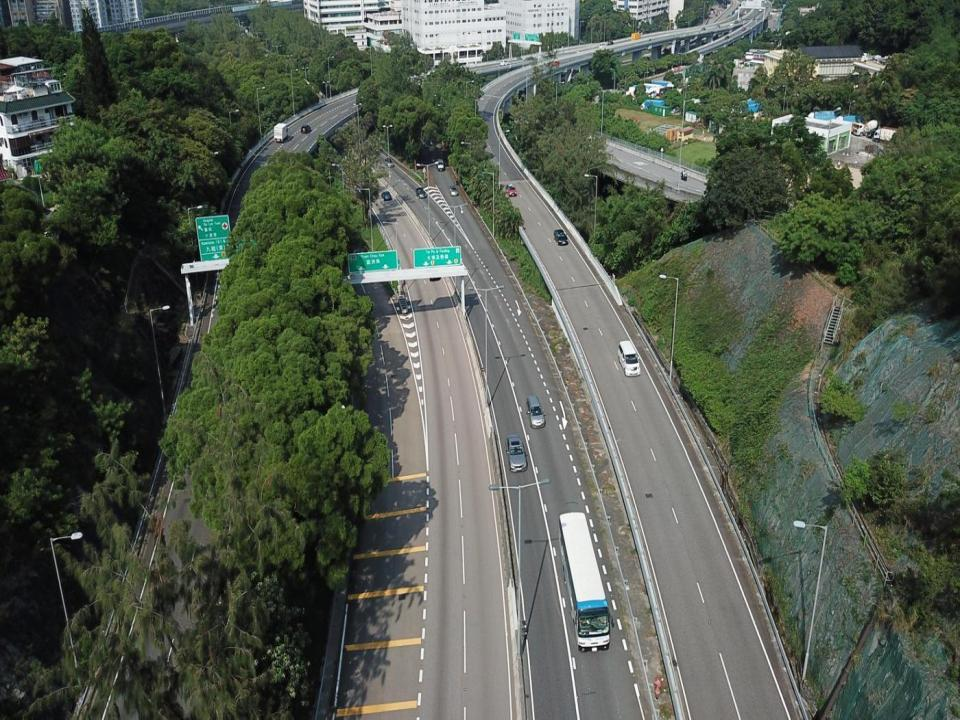bus: (558, 512, 614, 652)
car: (504, 433, 528, 472), (524, 394, 546, 428), (553, 228, 569, 246), (415, 186, 427, 200), (505, 182, 517, 196), (448, 184, 459, 197), (380, 190, 392, 201), (300, 124, 312, 134), (384, 157, 394, 168), (669, 105, 680, 115), (866, 130, 878, 138), (552, 59, 561, 67), (607, 39, 614, 46)
truck: (873, 126, 904, 144), (852, 119, 878, 136), (273, 122, 290, 142), (640, 99, 665, 112), (630, 31, 641, 41)
van: (617, 340, 641, 376), (435, 157, 445, 173)
